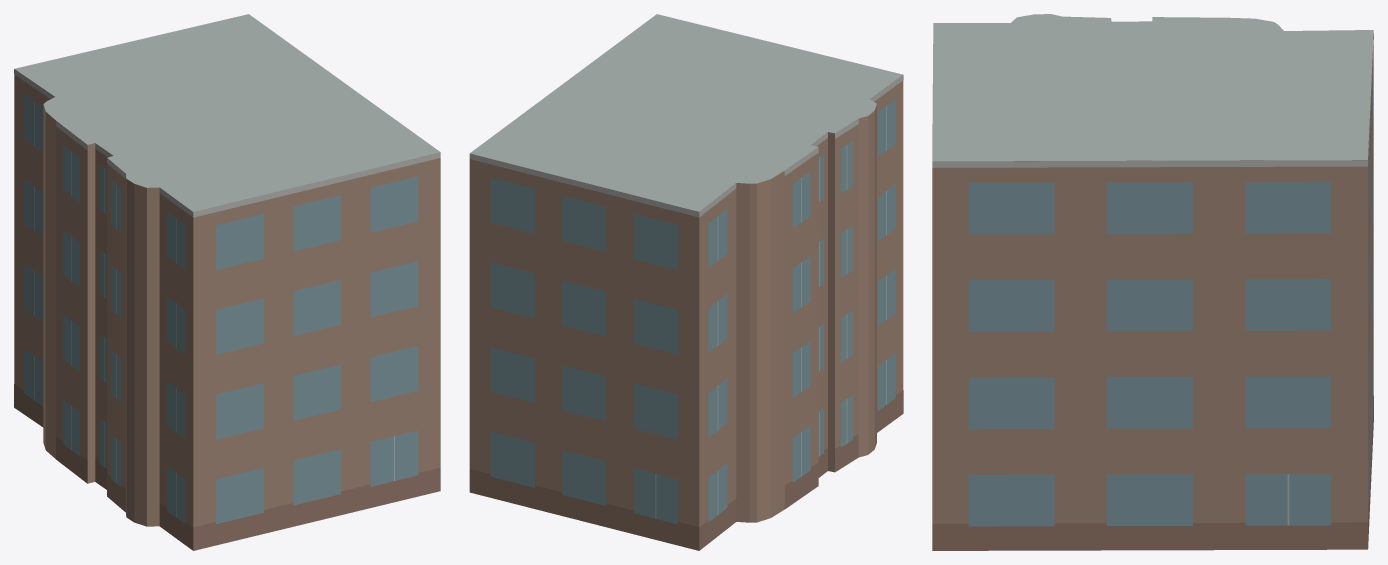
File: survey-upis-32760386.glb
3 renders of one model, left to right at view 1: azimuth 30°, elevation 25°; view 2: azimuth 150°, elevation 25°; view 3: azimuth 270°, elevation 25°, orthographic. The views are drawn at different scales.
Visible parts, largest first — view 1: survey-upis-32760386.tmp; view 2: survey-upis-32760386.tmp; view 3: survey-upis-32760386.tmp.
Part boxes in pixels (x1,y1,x2,y2): survey-upis-32760386.tmp: (14, 14, 440, 550); survey-upis-32760386.tmp: (469, 14, 903, 550); survey-upis-32760386.tmp: (932, 14, 1373, 550).
Bounding box in the file's own units: 11.94 × 14.7 × 15.12.
